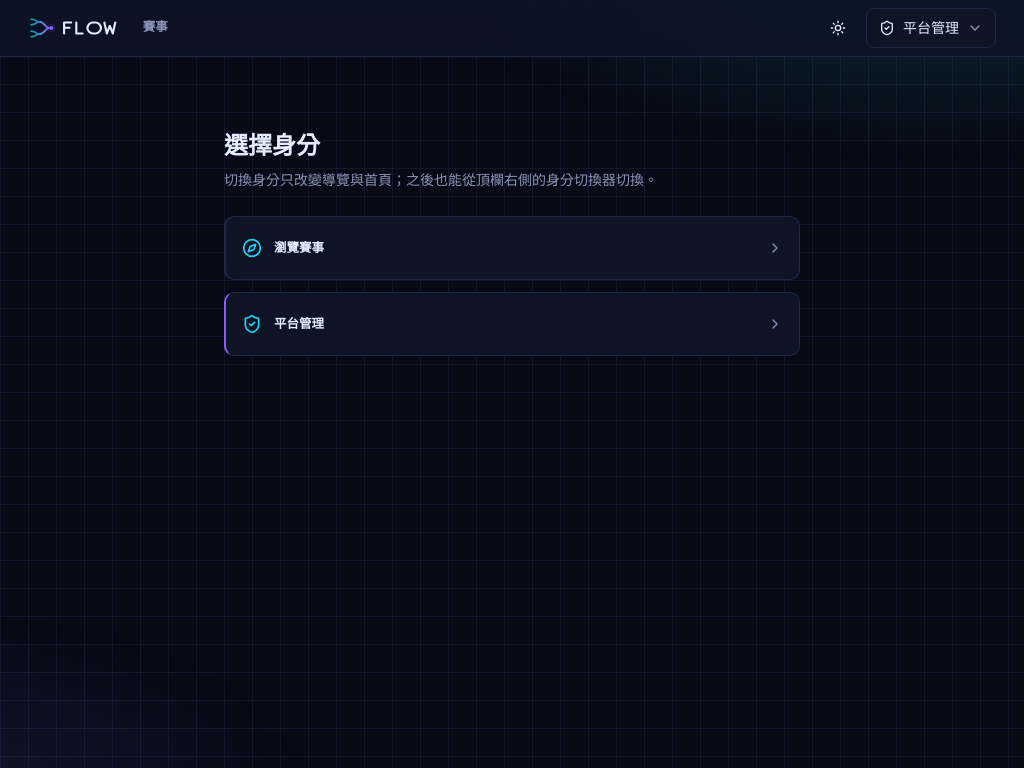
身分切換器 › 登出：不需確認，清除登入狀態並回到 S1；上次身分保留
This screenshot has width=1024, height=768.
Click the button with aria-label "切換身分（目前：". click: (931, 28)
box: [866,8,996,48]
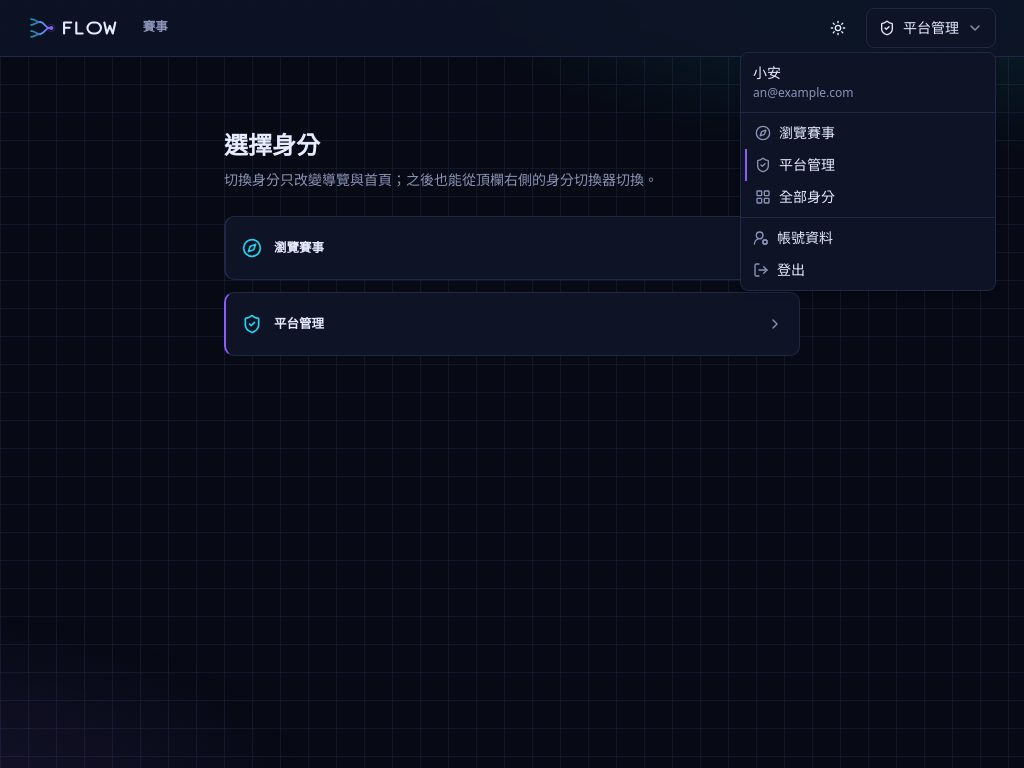
Click the menu item "登出". click: (779, 269)
box: [753,260,805,279]
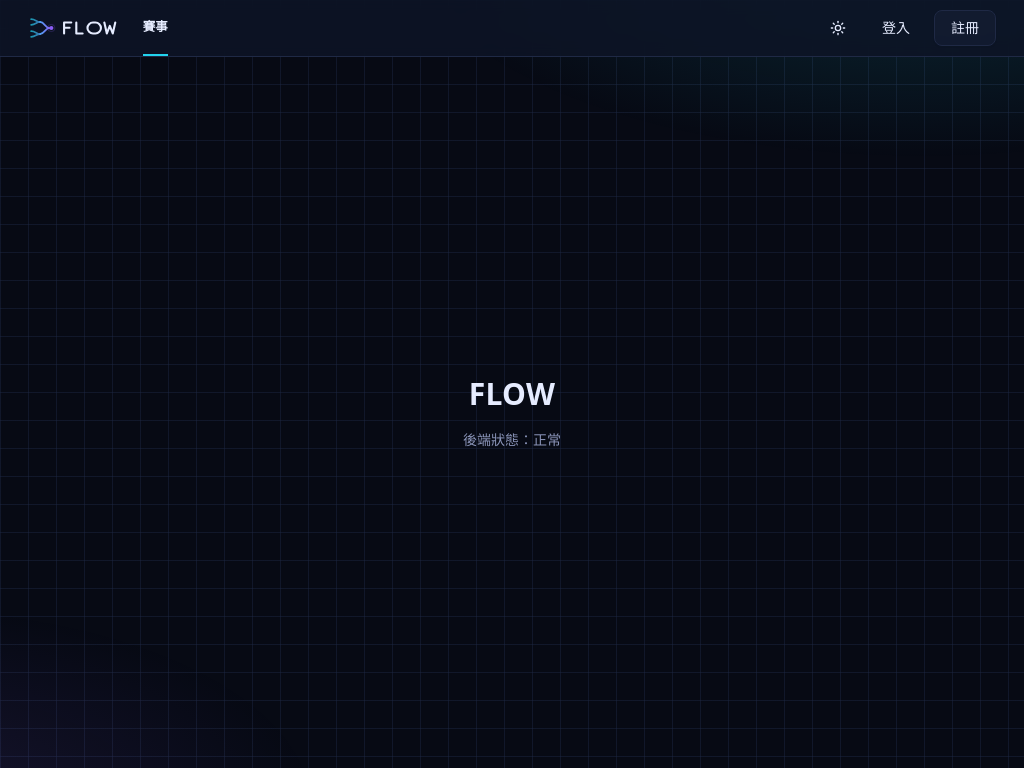
expect the link "登入" is shown: met, box [882,18,910,37]
